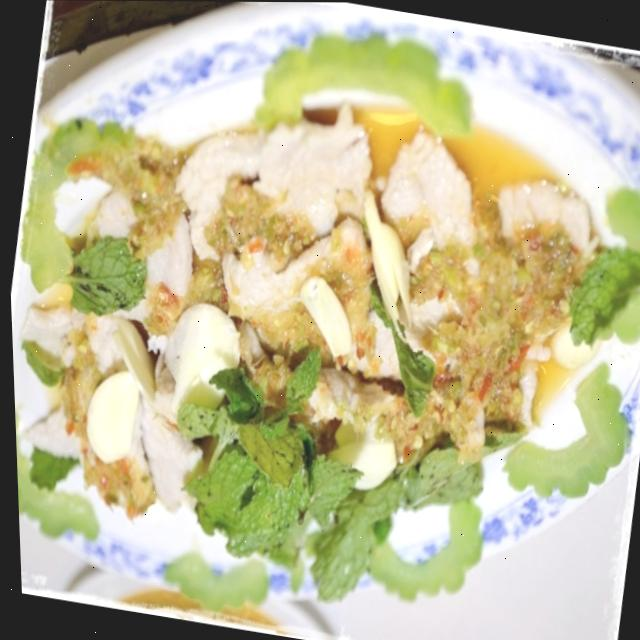猪肉菜式: (0, 2, 640, 640)
